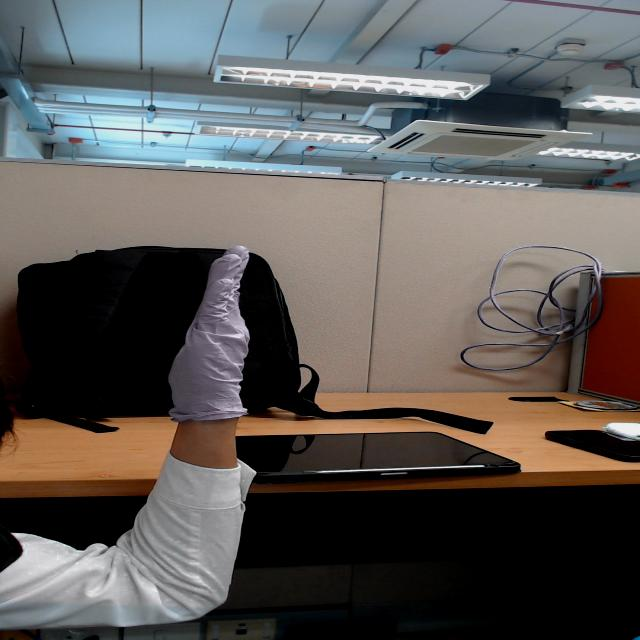glove: (106, 238, 325, 412)
